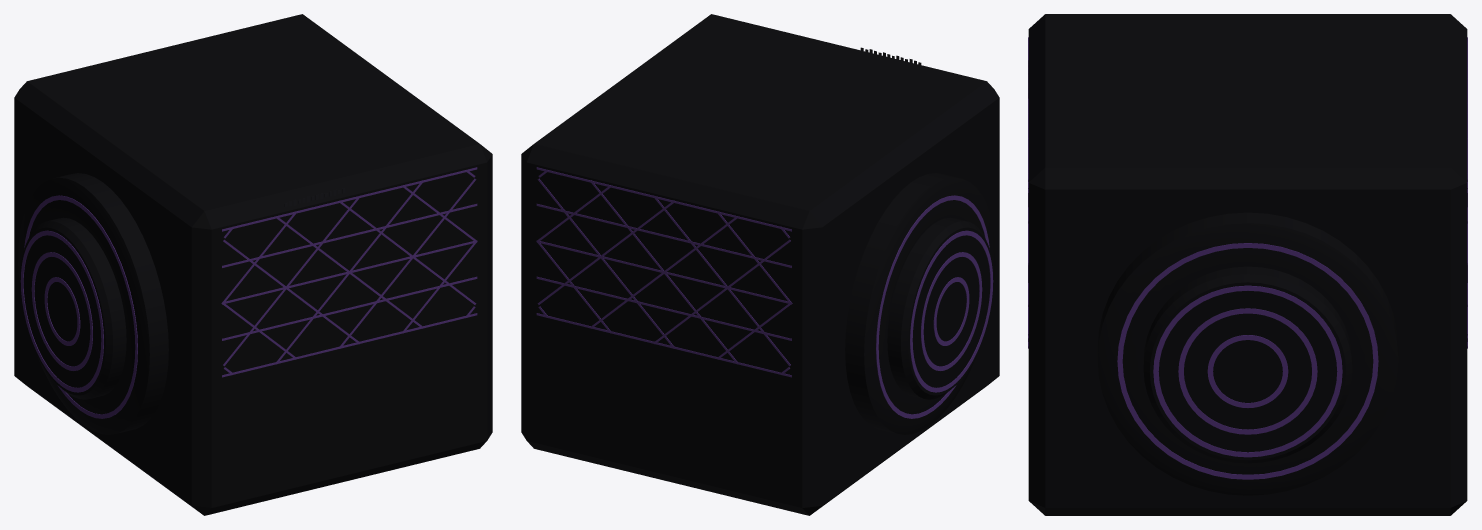
The model's file is z5_field.obj.
3 views of the same model, side by side, from view 1: azimuth 30°, elevation 25°; view 2: azimuth 150°, elevation 25°; view 3: azimuth 270°, elevation 25° (orthographic). The views are drawn at different scales.
Parts seen in each view (by area): view 1: z5_field; view 2: z5_field; view 3: z5_field.
Part boxes in pixels (x1=…): z5_field: x1=14, y1=14, x2=492, y2=515; z5_field: x1=521, y1=14, x2=999, y2=515; z5_field: x1=1028, y1=14, x2=1467, y2=515.
Bounding box in the file's own units: 2.42 × 1.84 × 2.11.
